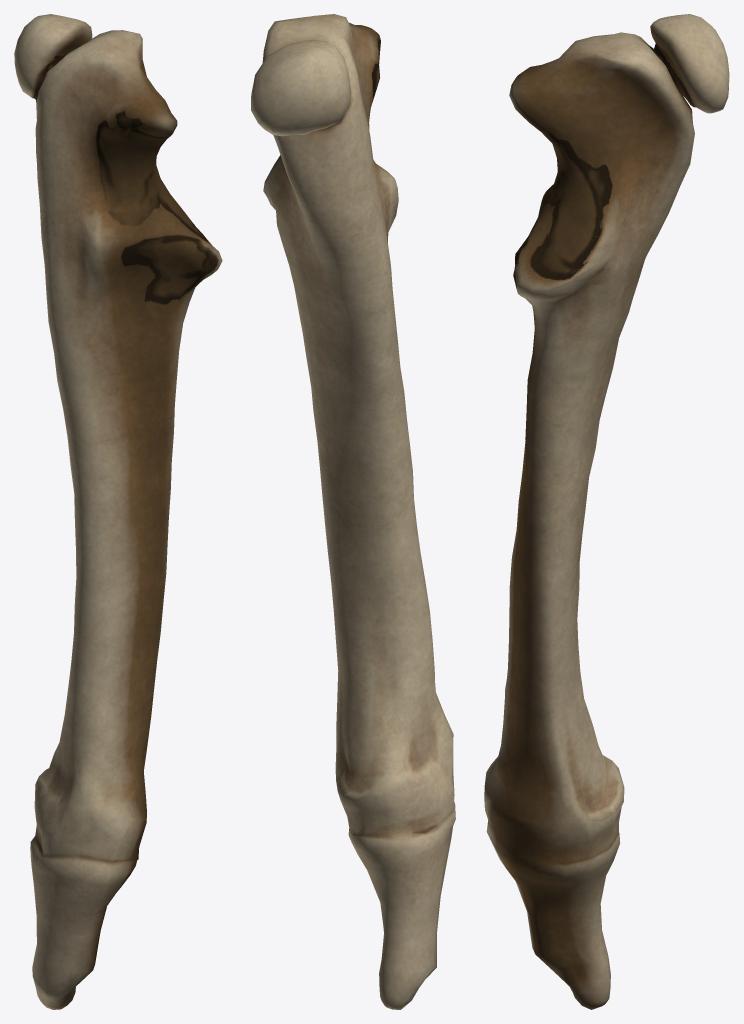
Rendered from Ulna.glb.
3 views of the same model, side by side, from view 1: azimuth 30°, elevation 25°; view 2: azimuth 150°, elevation 25°; view 3: azimuth 270°, elevation 25° (orthographic). The views are drawn at different scales.
Parts seen in each view (by area): view 1: Ulna_Right1:Group16114; view 2: Ulna_Right1:Group16114; view 3: Ulna_Right1:Group16114.
Part boxes in pixels (box(x1,y1,x2,y2)): Ulna_Right1:Group16114: box(14, 14, 222, 1009); Ulna_Right1:Group16114: box(251, 14, 455, 1009); Ulna_Right1:Group16114: box(484, 14, 729, 1009).
Size of the model in its own units: 25.21 by 135 by 29.8.
1 material, 1 textured.
